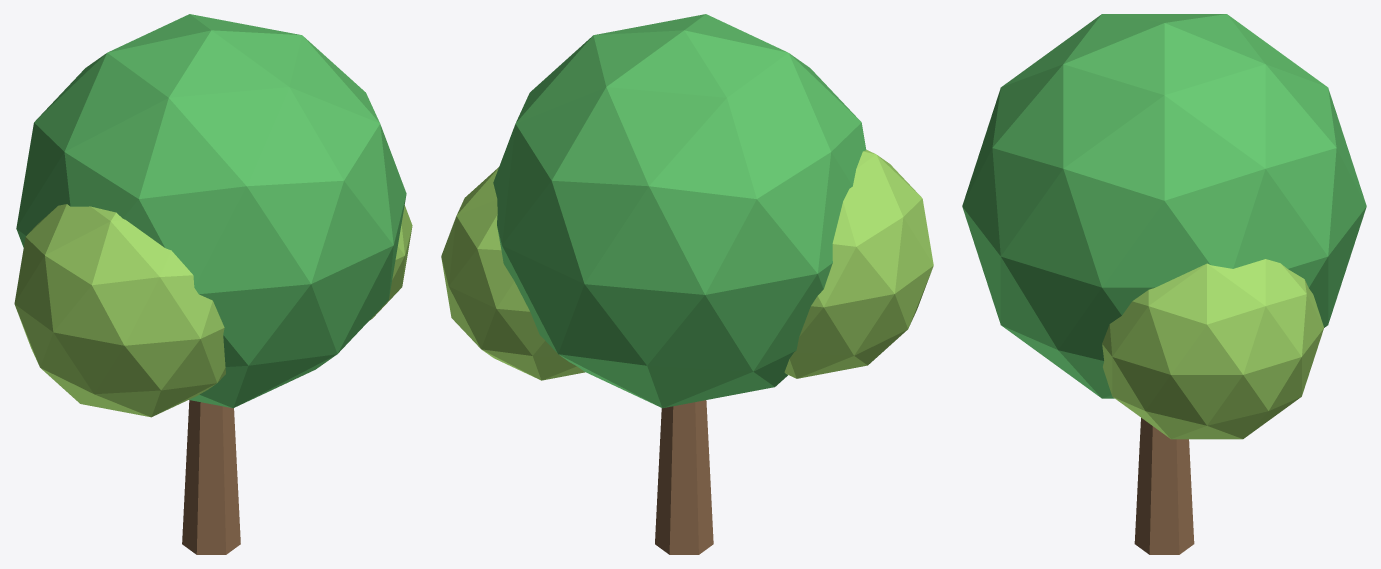
Rendered from Tree_01_Round.fbx.
3 renders of one model, left to right at view 1: azimuth 30°, elevation 25°; view 2: azimuth 150°, elevation 25°; view 3: azimuth 270°, elevation 25°, orthographic.
Visible parts, largest first — view 1: Tree_01_Round; view 2: Tree_01_Round; view 3: Tree_01_Round.
Boxes of the visible parts, x1=… form: Tree_01_Round: x1=14, y1=14, x2=412, y2=554; Tree_01_Round: x1=441, y1=14, x2=933, y2=554; Tree_01_Round: x1=962, y1=14, x2=1366, y2=554.
Bounding box in the file's own units: 4.49 × 5.4 × 3.8.
